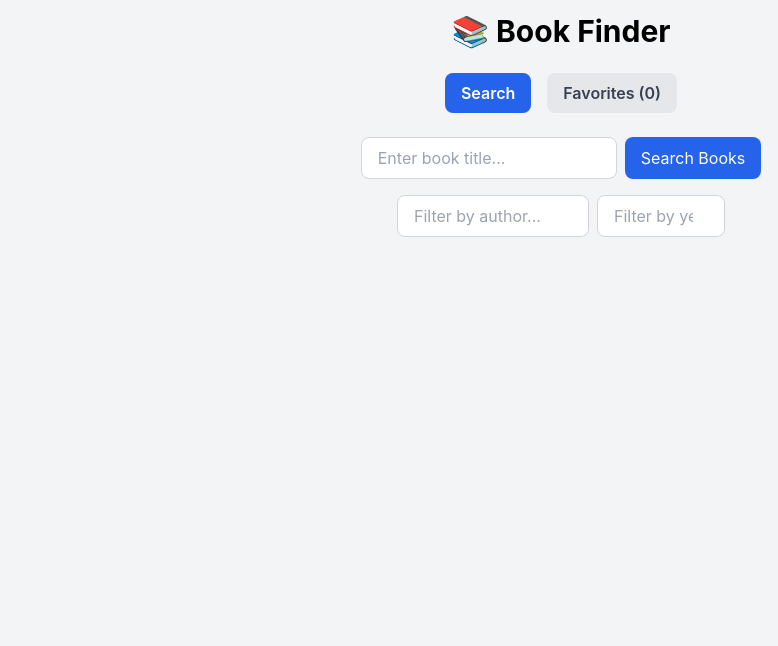
Scenario: BookFinder Component › filters by author
Type "Books" into the field with placeholder "Enter book title..." at (489, 158), box [361,137,617,179]
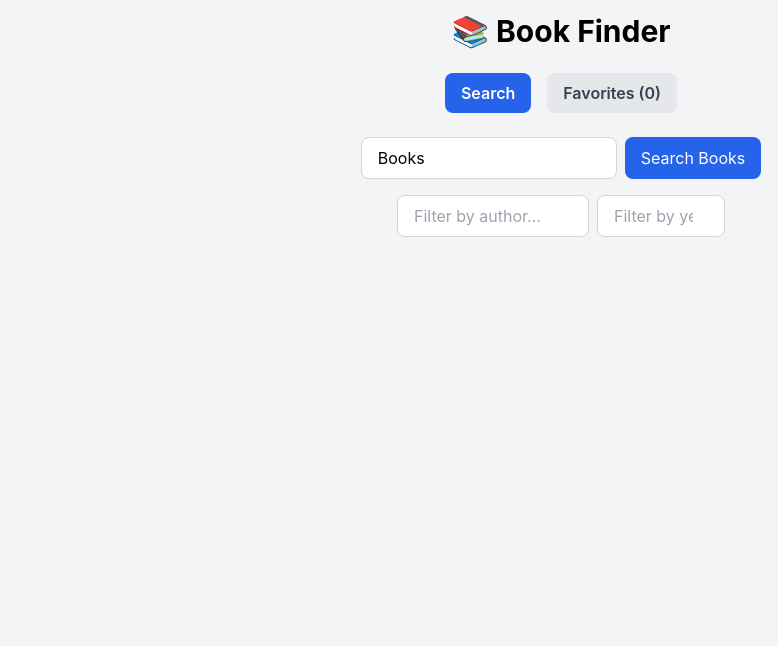
Click the button "Search Books" at (693, 158), box [625,137,761,179]
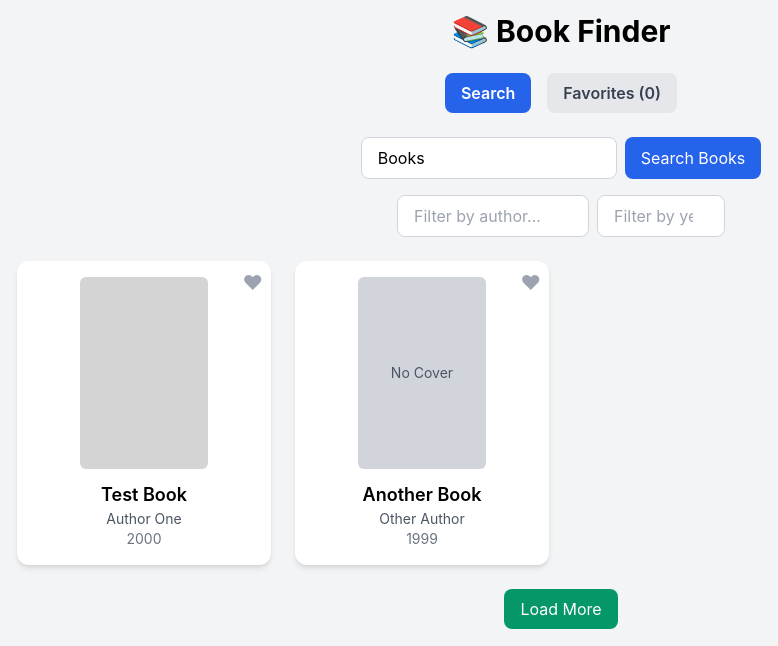
Now the heading "Test Book" is shown, box [101,481,187,509]
Apply filter for "Author One"
Type "Author One" into the field with placeholder "Filter by author..." at (493, 216), box [397,195,589,237]
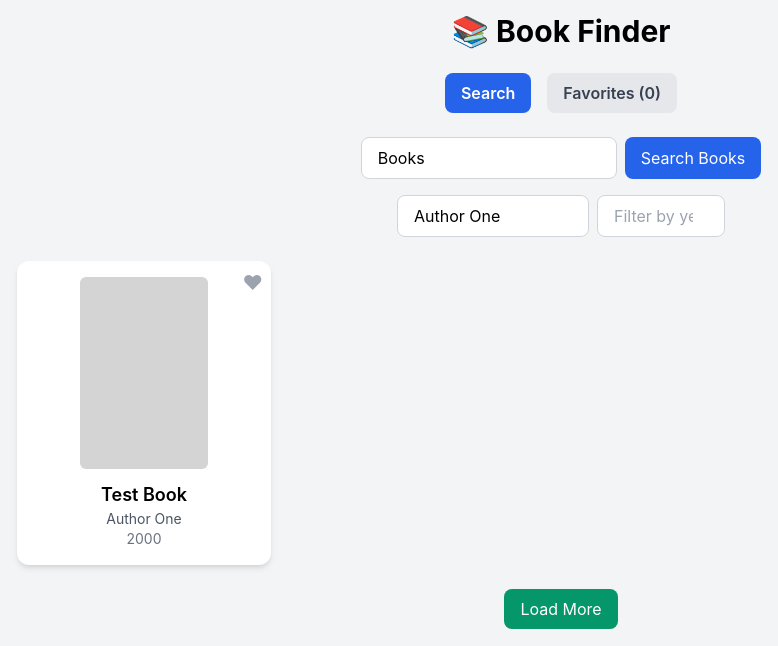
Now the heading "Test Book" is shown, box [101,481,187,509]
Now the heading "Another Book" is gone
